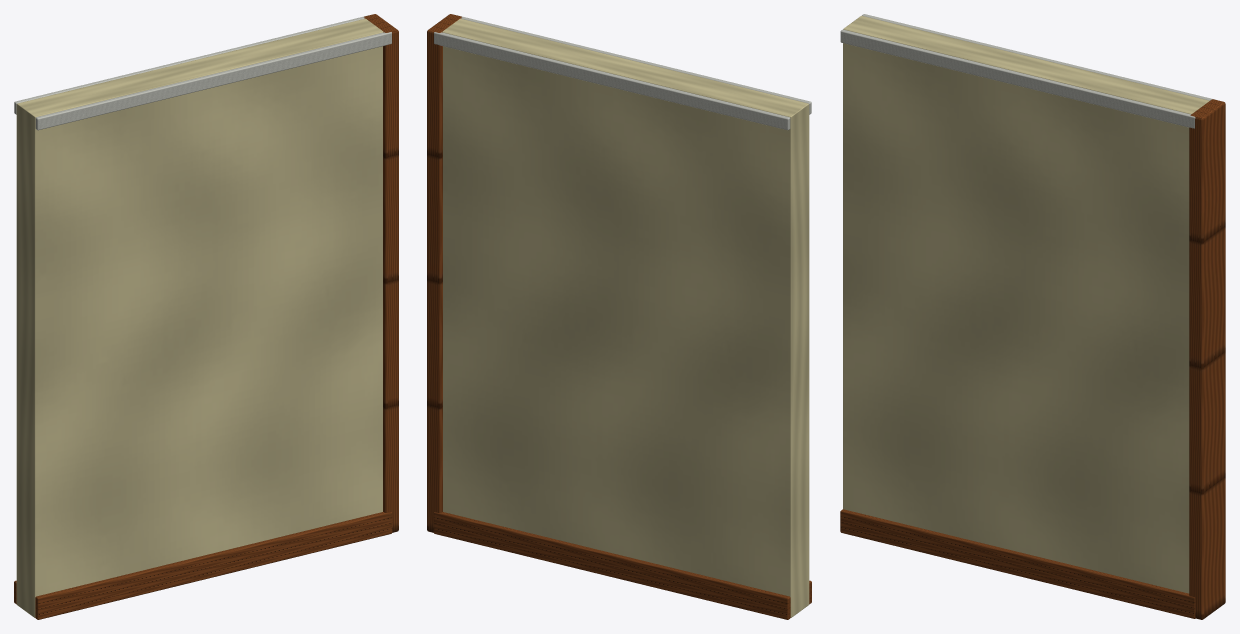
The model's file is three-d-liminal-spaces-kit-liminal-spaces-kit-wall-end-f54505ce.glb.
The picture shows the model from 3 angles, left to right: view 1: azimuth 30°, elevation 25°; view 2: azimuth 150°, elevation 25°; view 3: azimuth 330°, elevation 25°; orthographic projection.
Visible parts, largest first — view 1: wall-end; view 2: wall-end; view 3: wall-end.
Boxes of the visible parts, x1,y1,x2,y2 form: wall-end: (14, 14, 398, 619); wall-end: (427, 14, 811, 619); wall-end: (840, 14, 1225, 619).
Size of the model in its own units: 2.04 by 2.7 by 0.2361.
3 materials, 3 textured.
